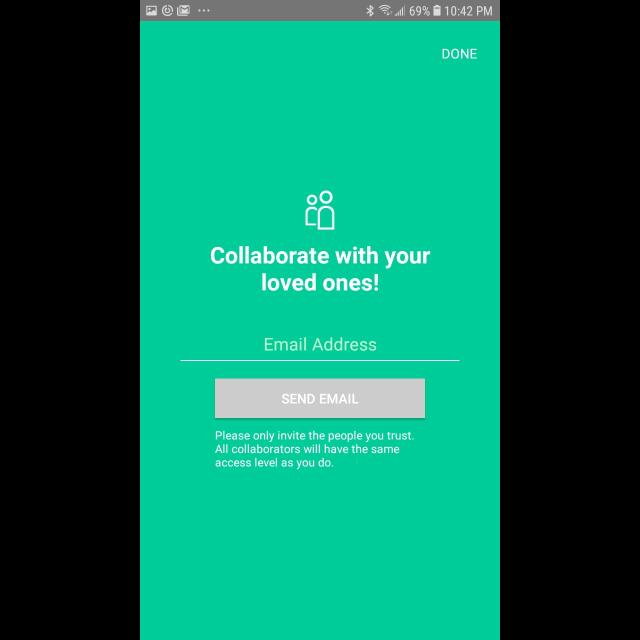icon: (305, 190, 335, 230)
input: (180, 337, 460, 361)
text: (211, 246, 431, 292), (214, 430, 413, 470), (265, 337, 377, 351), (442, 49, 478, 60)
textbutton: (215, 378, 425, 418)
uppertaskbar: (140, 1, 500, 22)
